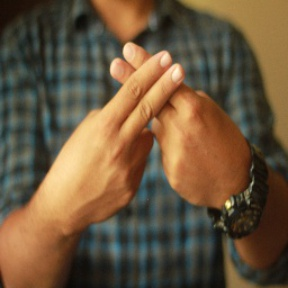F: (76, 36, 222, 171)
